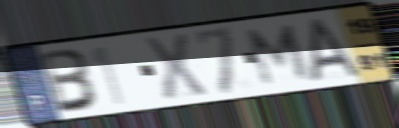1: (89, 45, 127, 106)
7: (191, 25, 238, 98)
A: (308, 16, 363, 84)
B: (39, 47, 101, 116)
M: (245, 22, 313, 88)
X: (141, 32, 210, 104)
